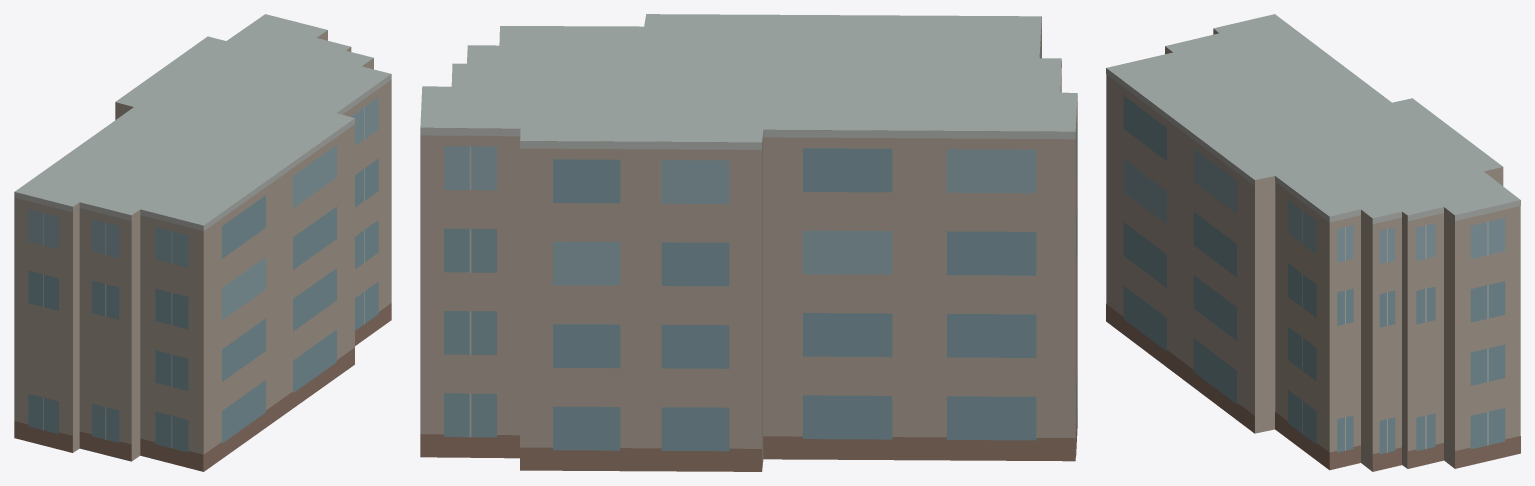
File: survey-upis-32994440.glb
The picture shows the model from 3 angles, left to right: view 1: azimuth 30°, elevation 25°; view 2: azimuth 150°, elevation 25°; view 3: azimuth 270°, elevation 25°; orthographic projection. The views are drawn at different scales.
Parts seen in each view (by area): view 1: survey-upis-32994440.tmp; view 2: survey-upis-32994440.tmp; view 3: survey-upis-32994440.tmp.
Part boxes in pixels (box(x1,y1,x2,y2)): survey-upis-32994440.tmp: box(14, 14, 391, 471); survey-upis-32994440.tmp: box(420, 14, 1077, 471); survey-upis-32994440.tmp: box(1106, 14, 1520, 471).
Bounding box in the file's own units: 18.17 × 10.5 × 15.58.
